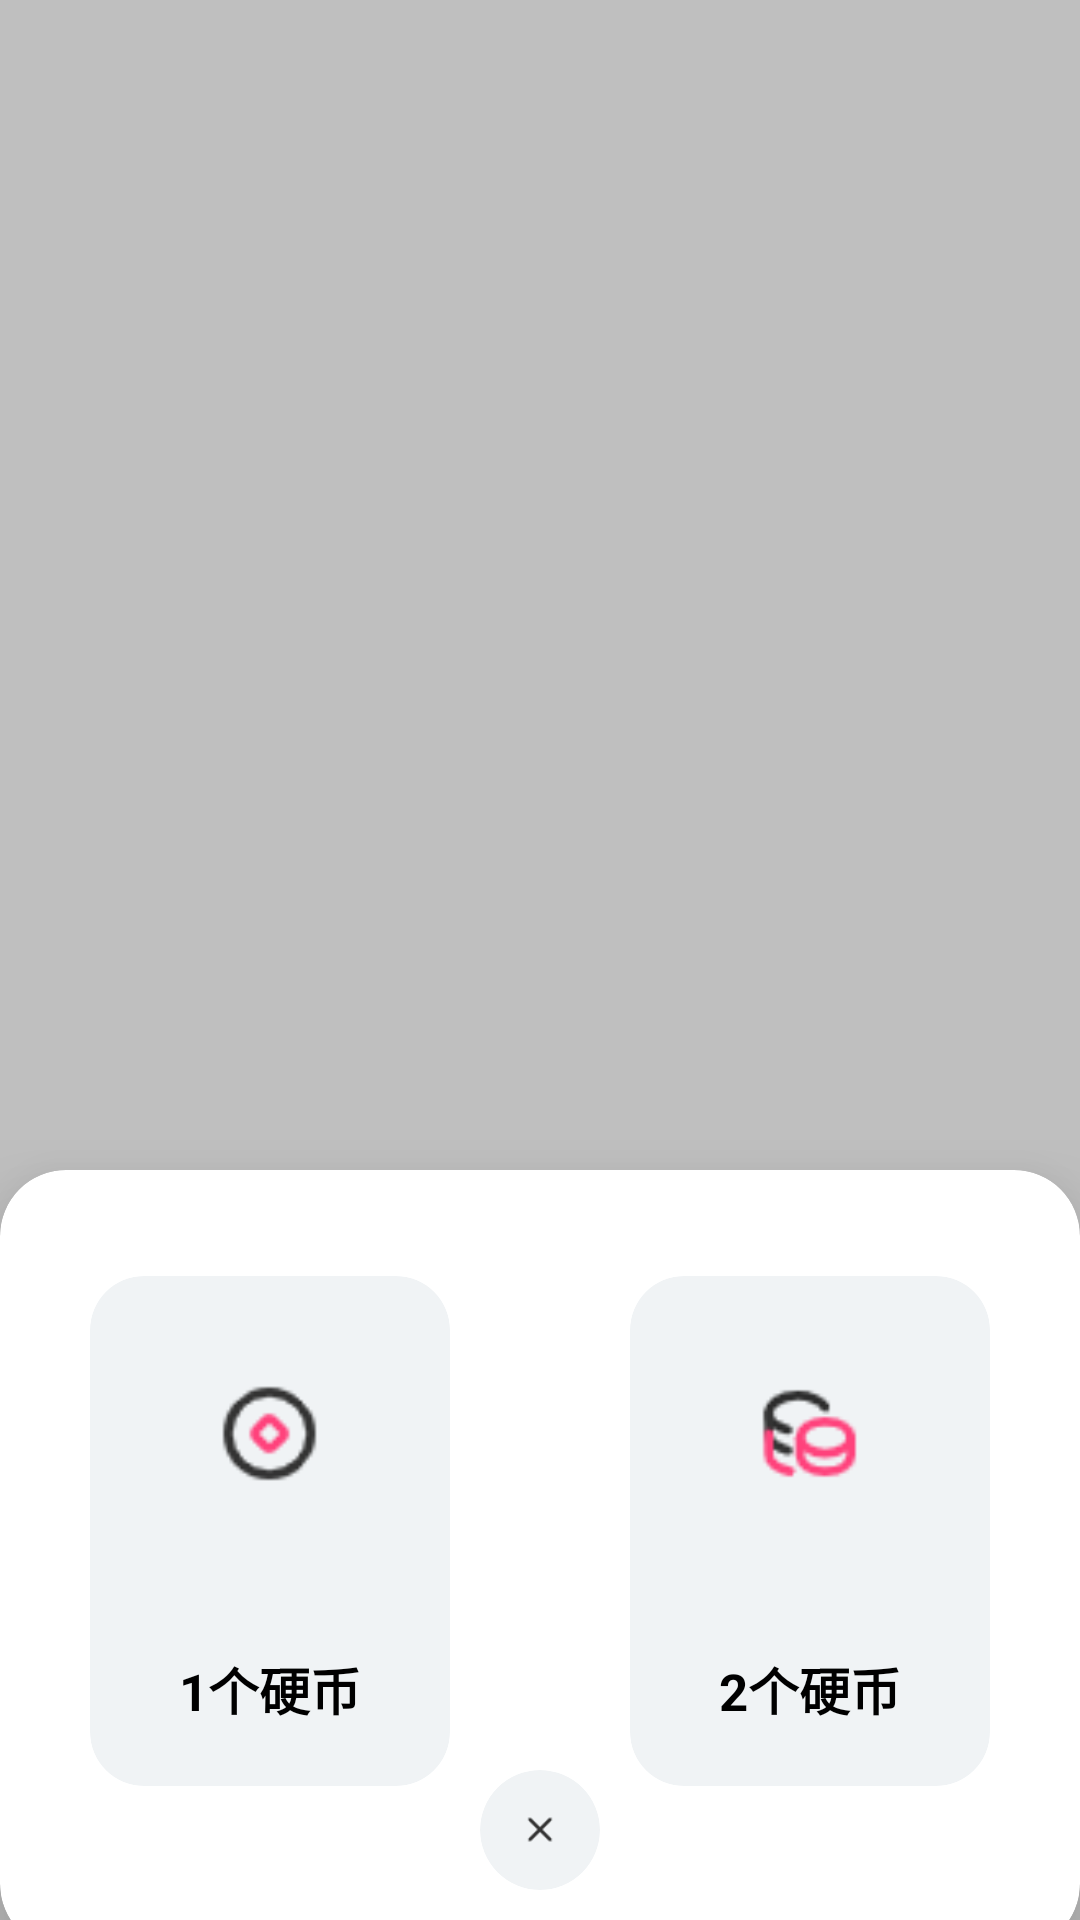

Icons on this 1080 x 1920 Android screen, each with the point to tap as [x,y]:
close: [540,1829]
coin: [269,1433], [809,1433]
